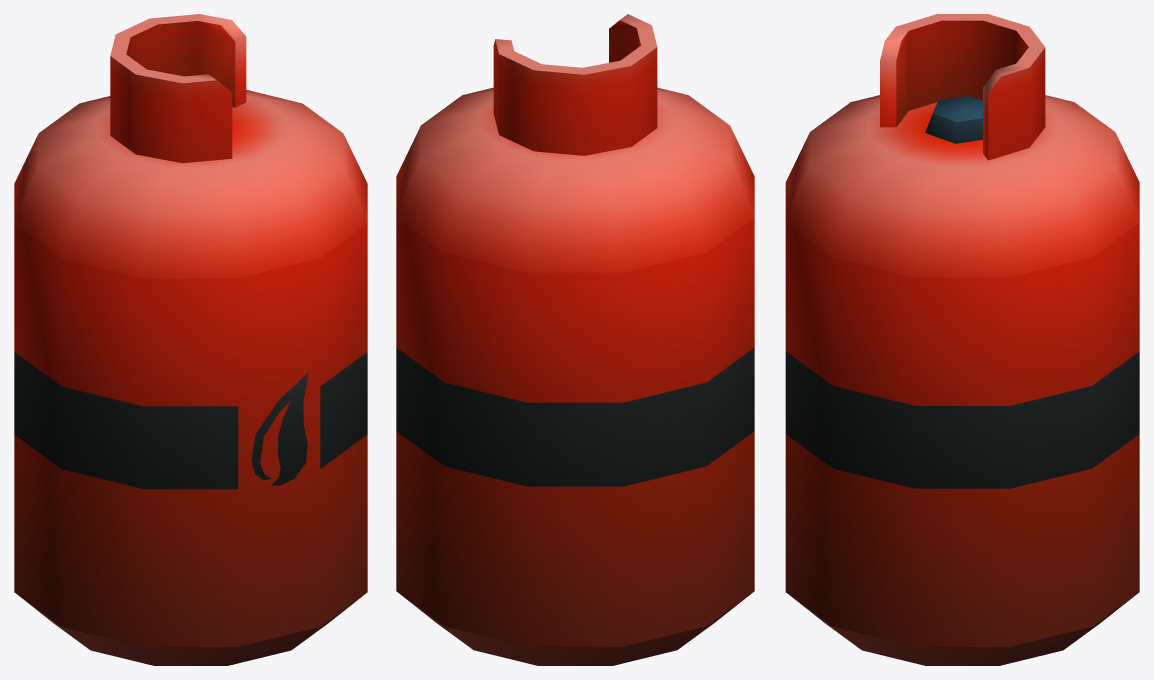
Rendered from Gas_Barrel_1A.fbx.
3 renders of one model, left to right at view 1: azimuth 30°, elevation 25°; view 2: azimuth 150°, elevation 25°; view 3: azimuth 270°, elevation 25°, orthographic.
Visible parts, largest first — view 1: Gas_Barrel_1A; view 2: Gas_Barrel_1A; view 3: Gas_Barrel_1A.
Part boxes in pixels (box(x1,y1,x2,y2)): Gas_Barrel_1A: box(14, 14, 367, 665); Gas_Barrel_1A: box(396, 14, 754, 665); Gas_Barrel_1A: box(785, 14, 1139, 665).
Bounding box in the file's own units: 57.7 × 101 × 58.08.
